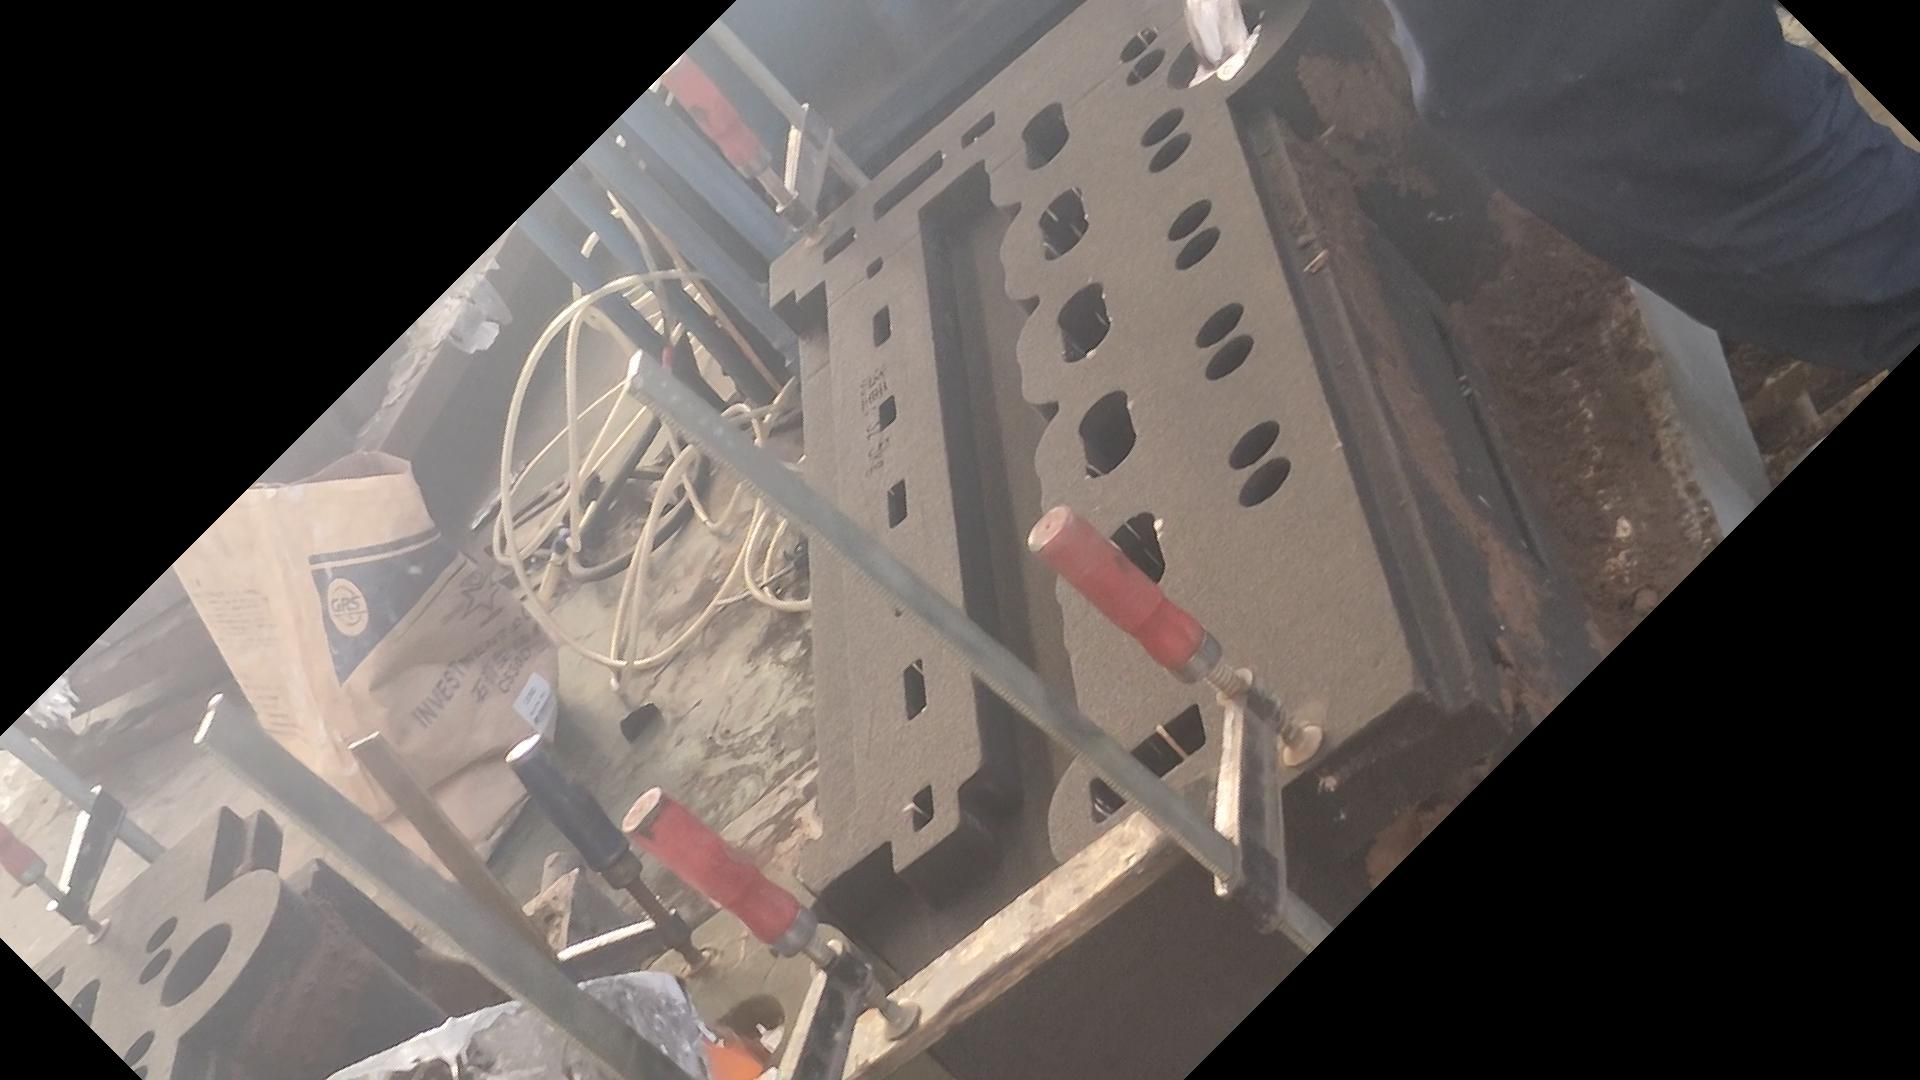pouring hole: (1164, 5, 1265, 90), (690, 993, 785, 1079), (160, 922, 232, 1007)
